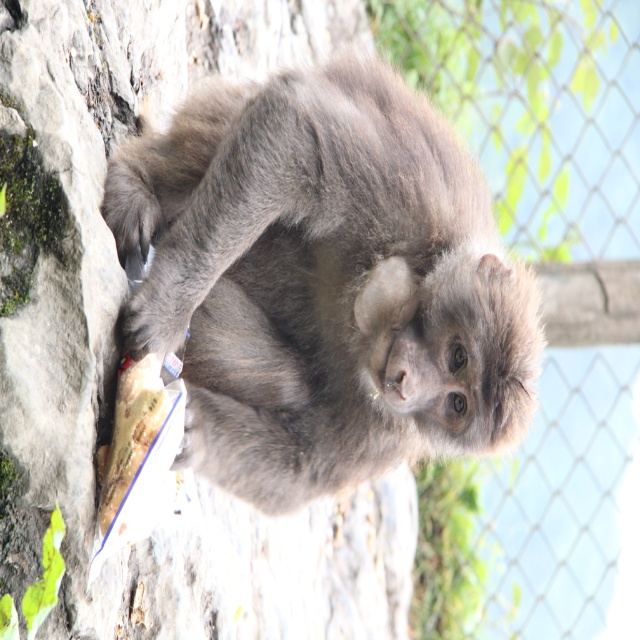Monkey: (116, 20, 530, 560)
